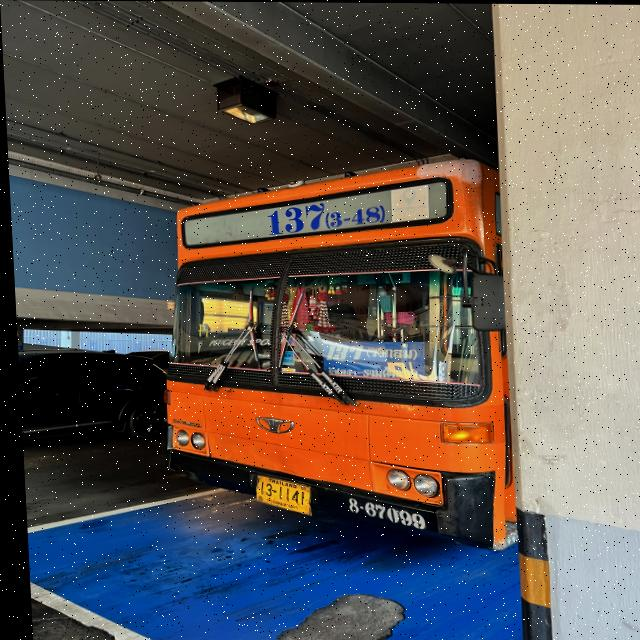BMTA-bus: (160, 158, 512, 551)
Bus Line Number: (261, 190, 390, 236)
Bus Side Number: (340, 494, 425, 533)
Destination Sign: (319, 341, 421, 380)
